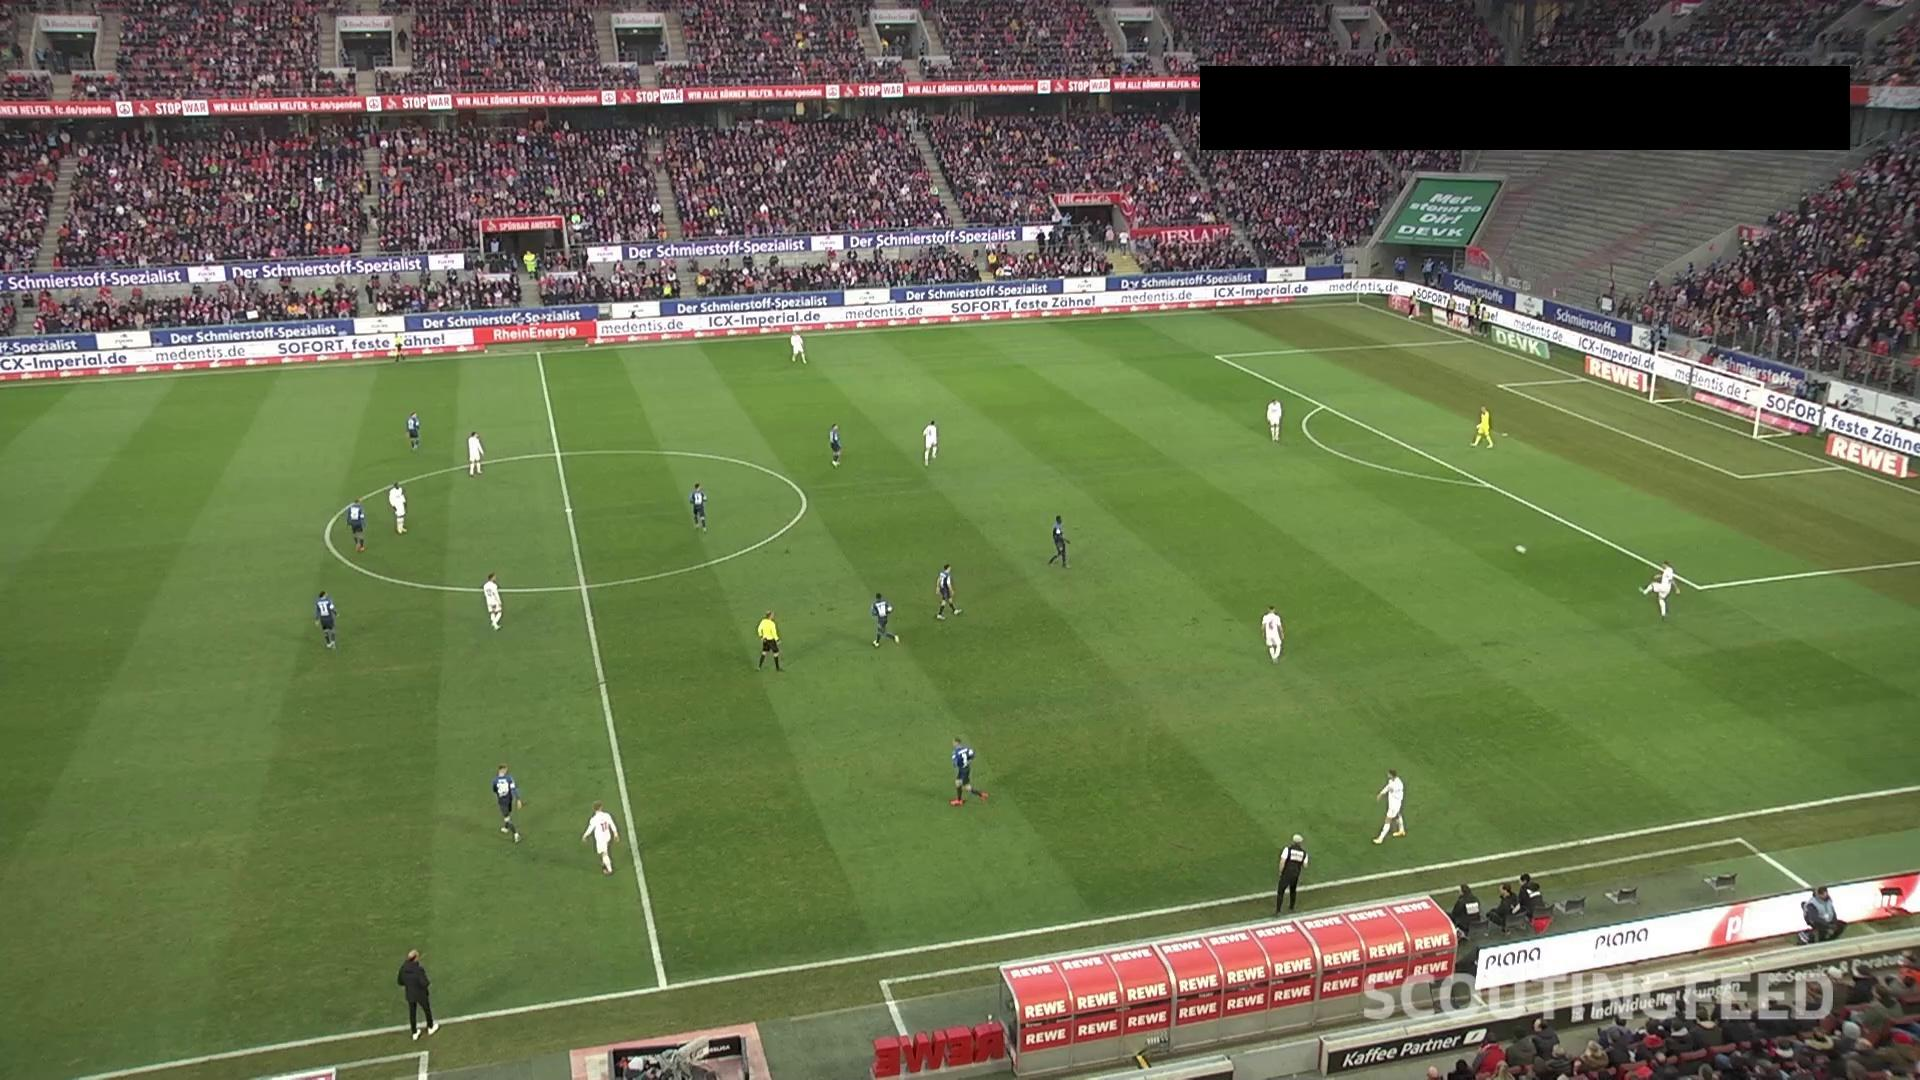Location-of-ball: (1501, 530, 1538, 567)
